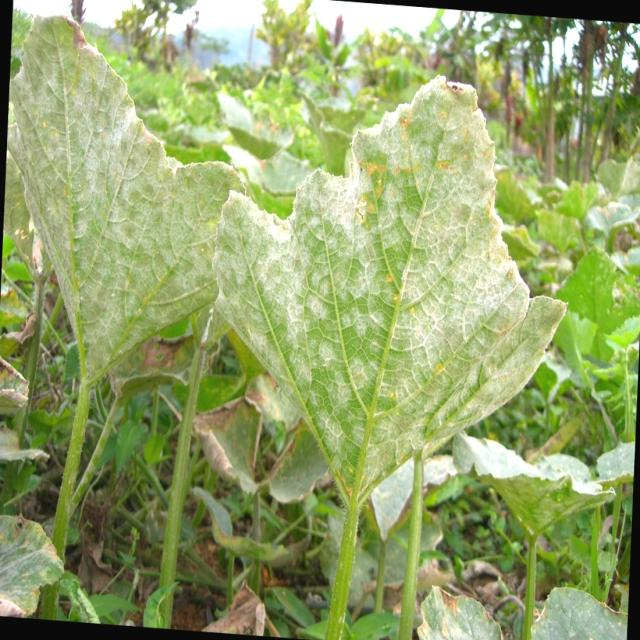Powdery Mildew: (210, 72, 566, 510), (18, 25, 219, 389)
